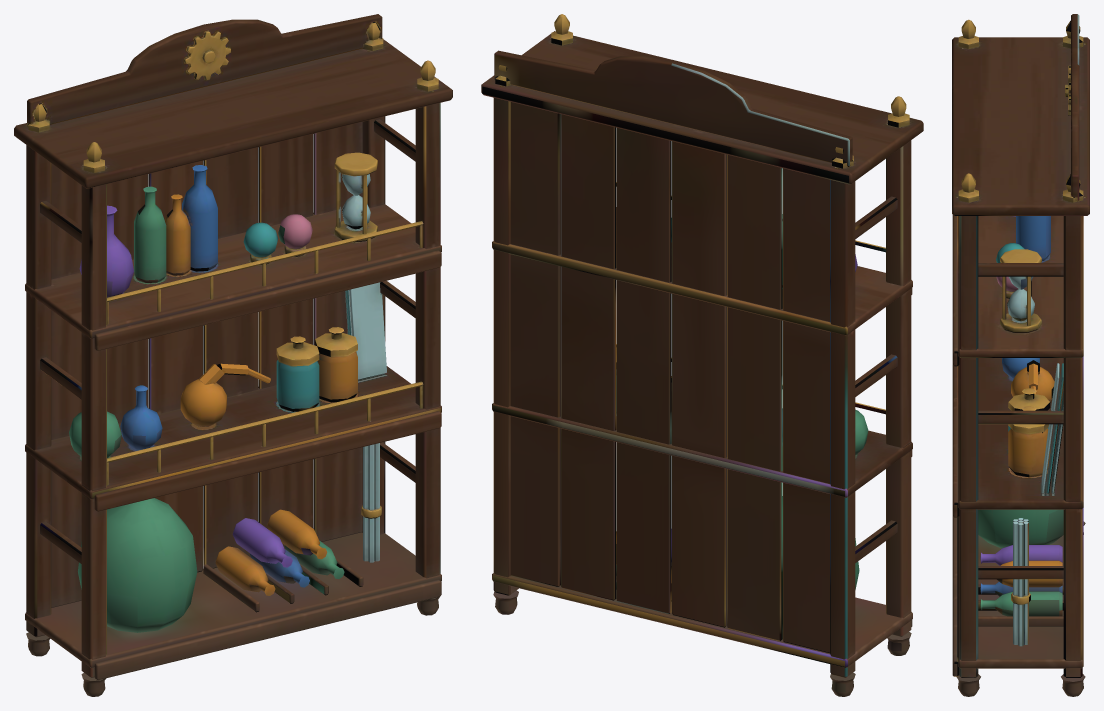
File: glassware-shelf.hq.glb
3 views of the same model, side by side, from view 1: azimuth 30°, elevation 25°; view 2: azimuth 150°, elevation 25°; view 3: azimuth 270°, elevation 25° (orthographic). The views are drawn at different scales.
Visible parts, largest first — view 1: glassware-shelf; view 2: glassware-shelf; view 3: glassware-shelf.
Boxes of the visible parts, bbox=[...] form: glassware-shelf: bbox=[14, 14, 452, 696]; glassware-shelf: bbox=[481, 14, 923, 696]; glassware-shelf: bbox=[952, 14, 1089, 696].
Bounding box in the file's own units: 0.96 × 1.46 × 0.3299.
1 material, 1 textured.
